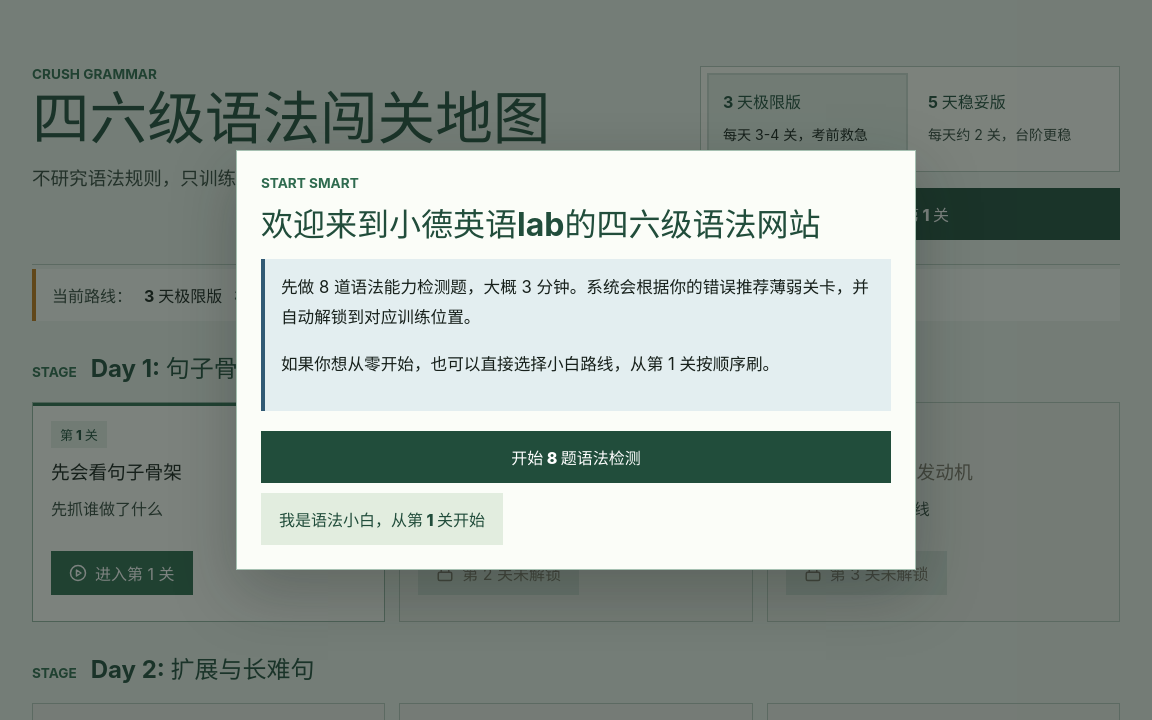
HomePage › keeps the first-visit diagnostic quiz inside the modal
Click the button "开始 8 题语法检测" at (576, 456), box [261, 430, 891, 482]
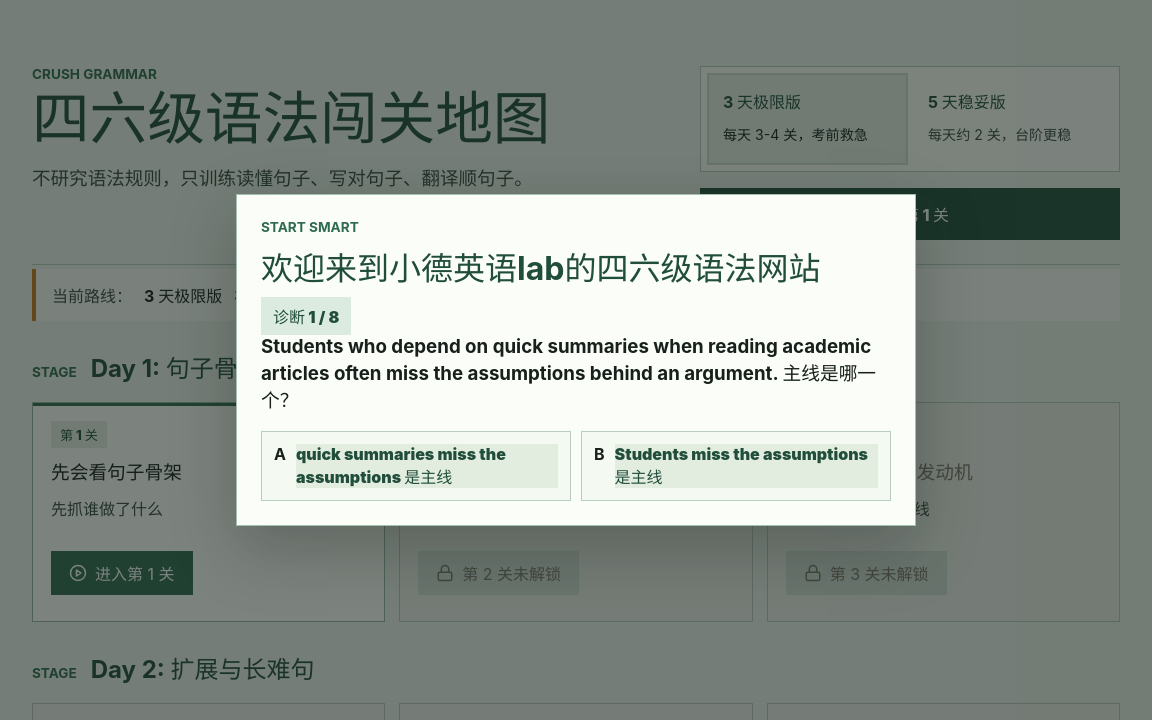
Expected: the dialog "欢迎来到小德英语lab的四六级语法网站" is shown, [236, 194, 916, 526]
Result: the button "B Students miss the assumptions 是主线" is shown at [581, 431, 891, 501]
Result: the text "诊断 1 / 8" is shown once at [261, 297, 351, 335]
